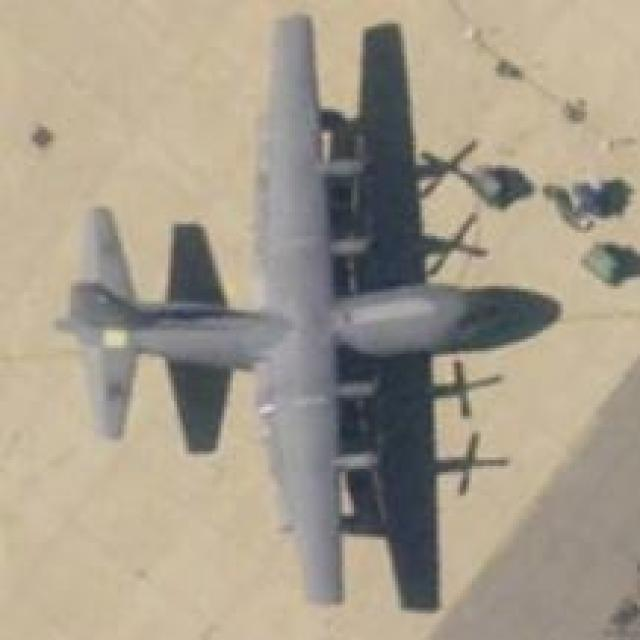C-130_TopDown: (46, 7, 563, 619)
